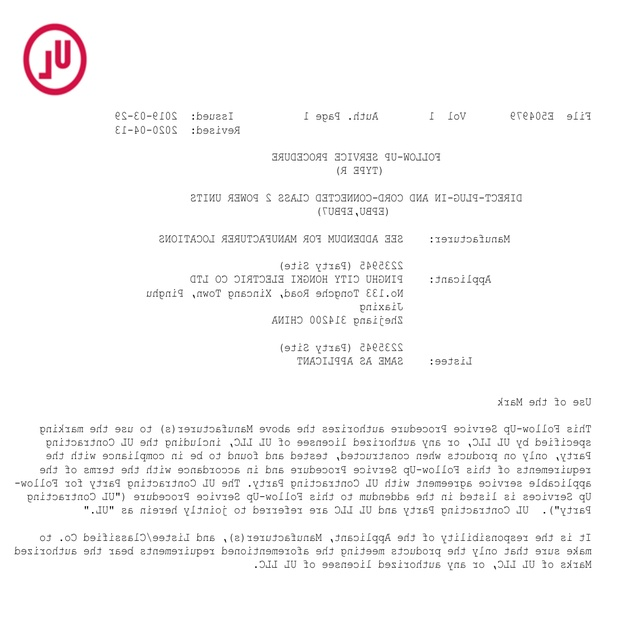ul: (23, 23, 88, 94)
